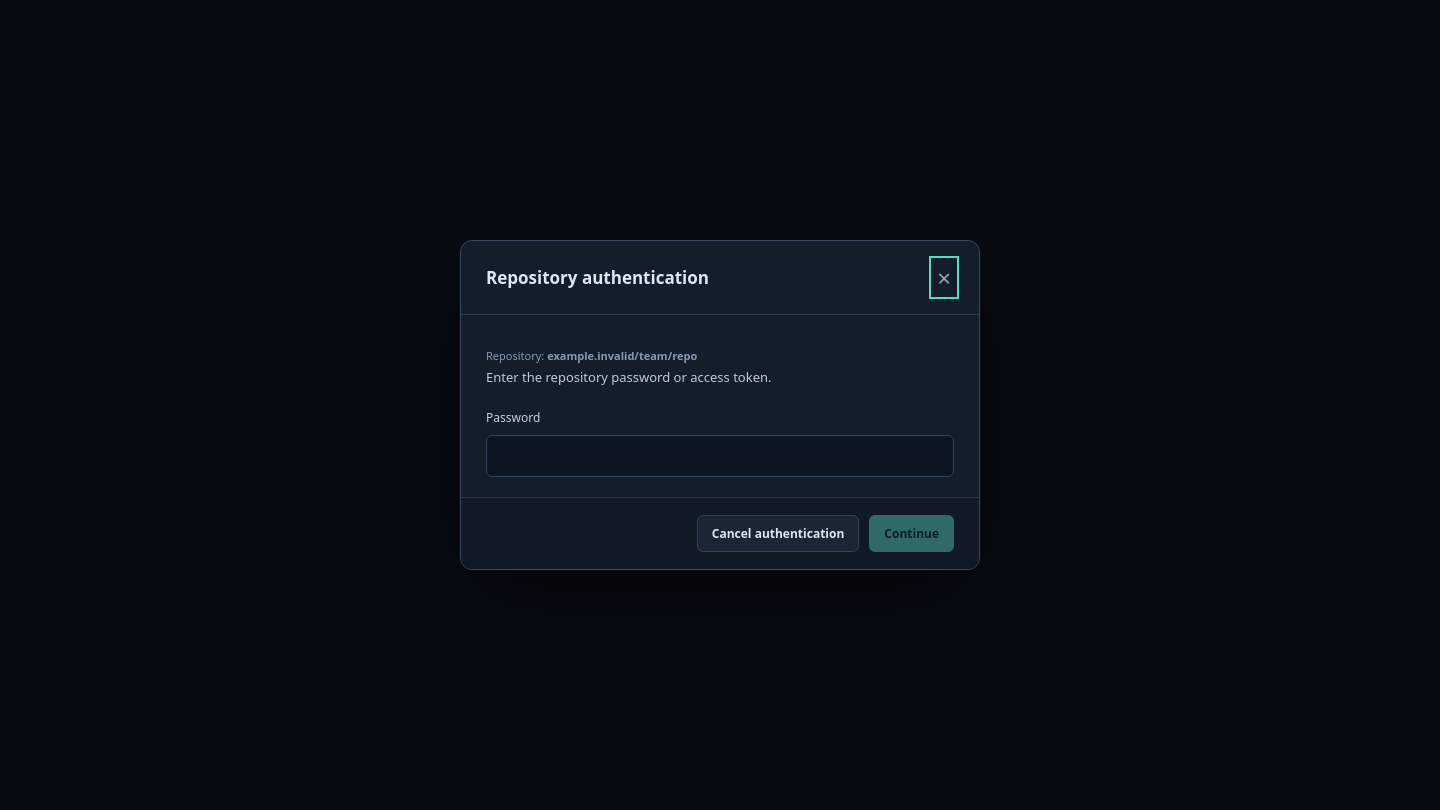
Test case: transient authentication › masks password and clears the value before awaiting a response
Type "CANARY_SECRET" into the password field labelled "Password".
click(720, 456); type("CANARY_SECRET")  # box [486, 435, 954, 477]
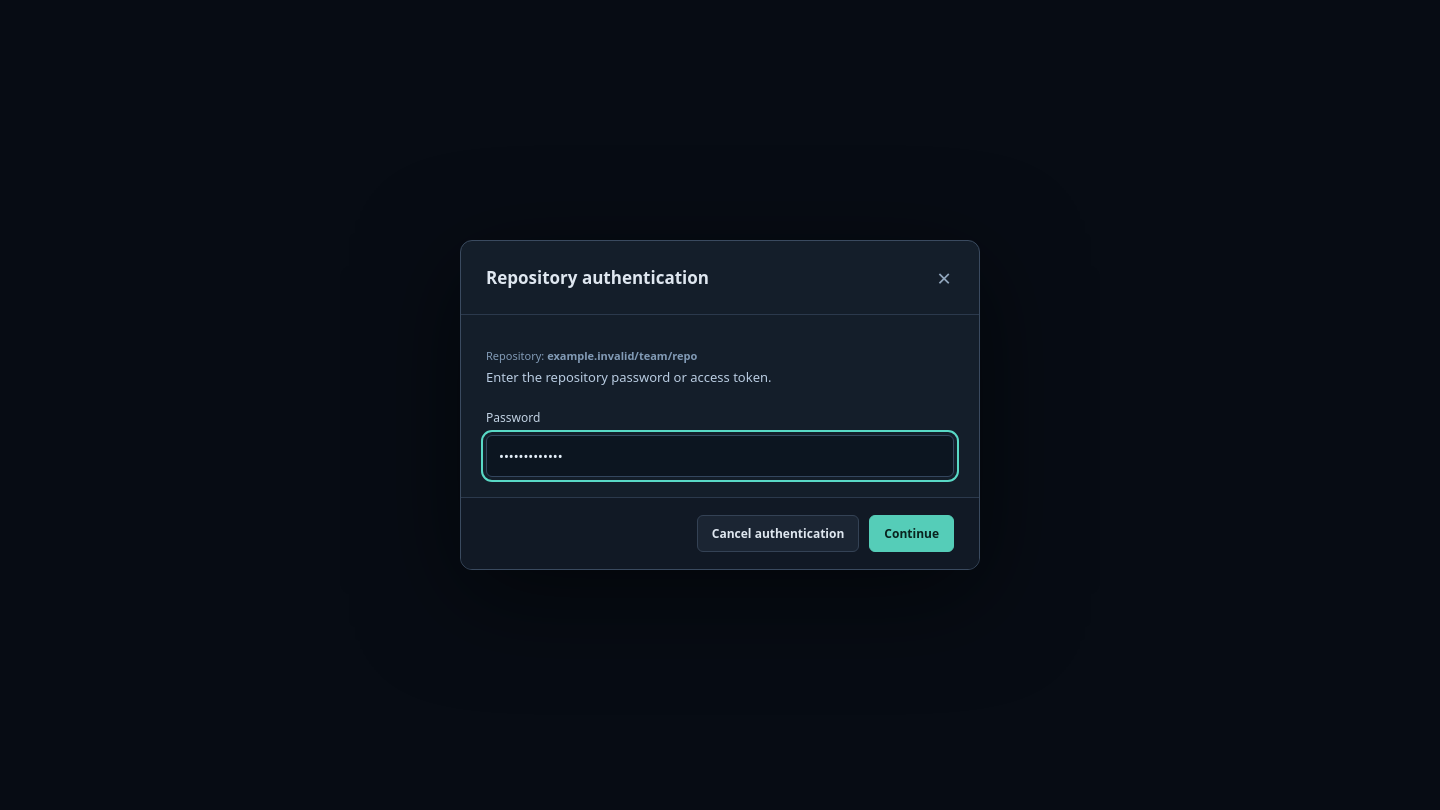
Click the button "Continue".
click(912, 534)  # box [869, 515, 954, 552]
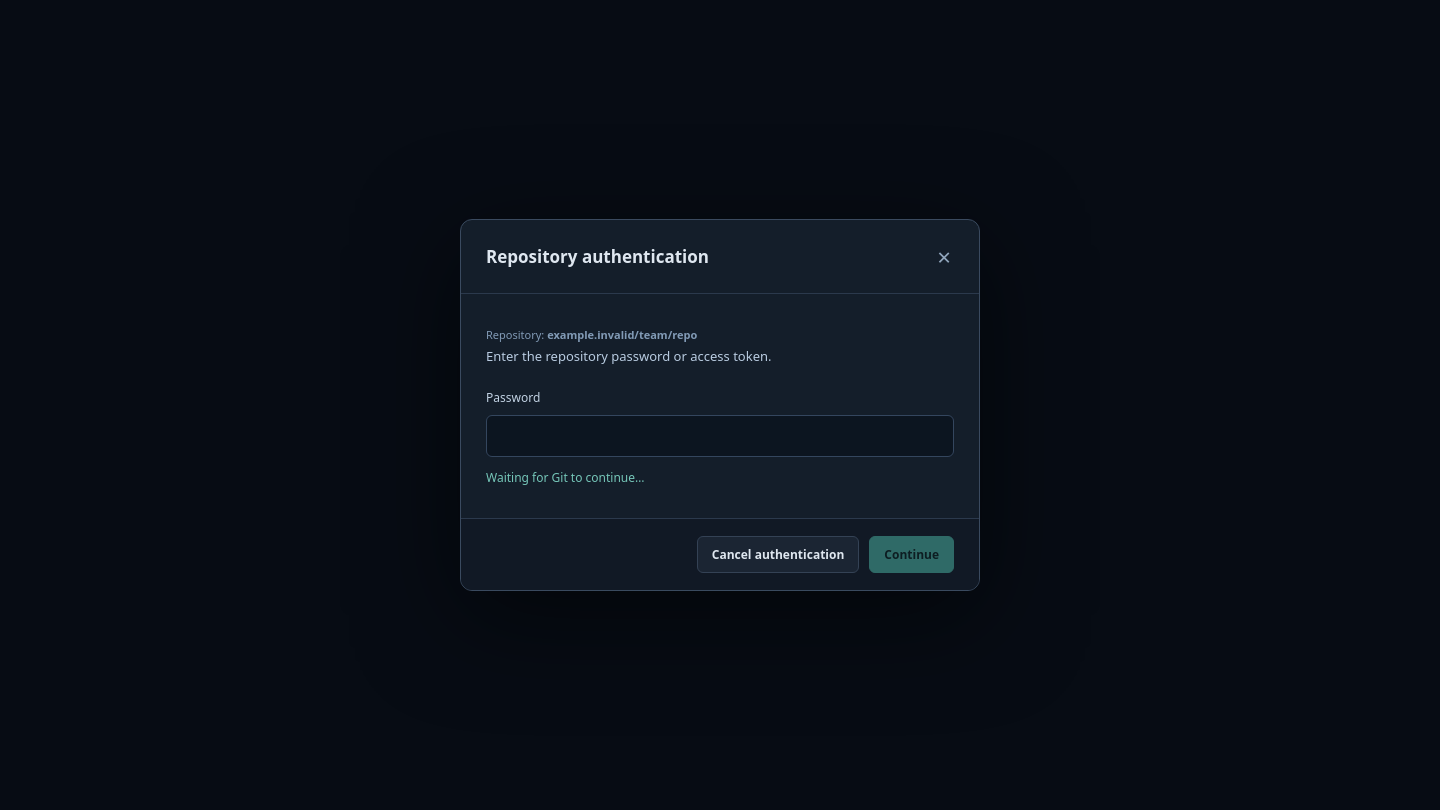
Expected: the password field labelled "Password" is empty, [486, 414, 954, 456]
Expected: the button "Continue" is disabled, [869, 536, 954, 572]
